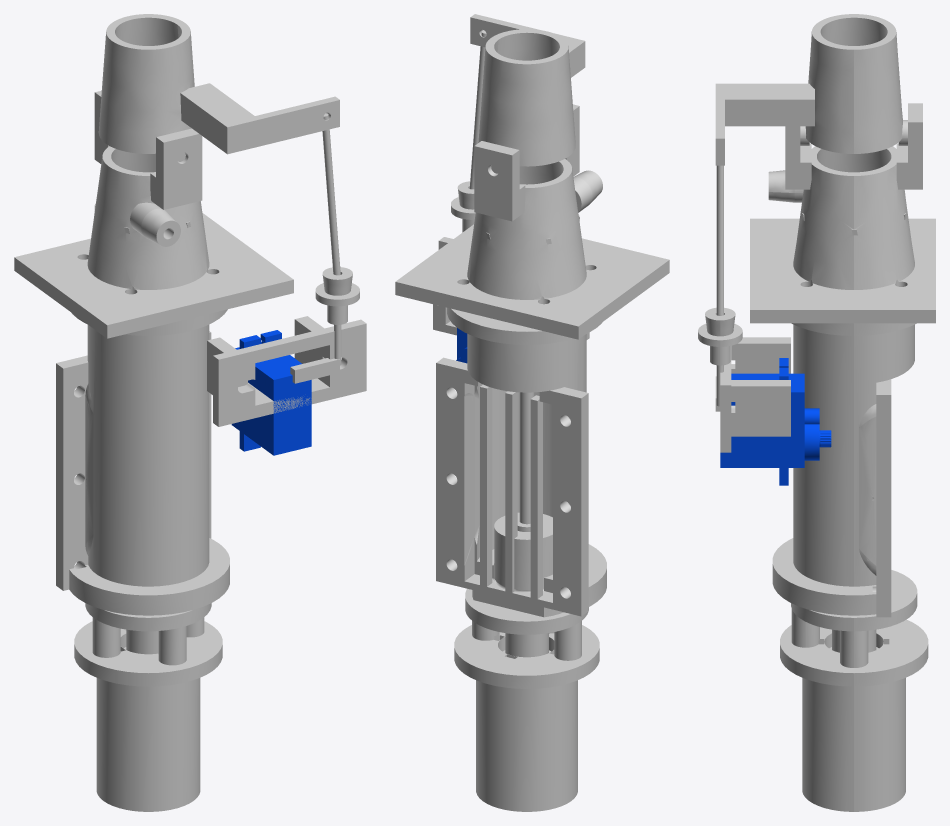
Rendered from .jet_assembly.step.glb.
3 views of the same model, side by side, from view 1: azimuth 30°, elevation 25°; view 2: azimuth 150°, elevation 25°; view 3: azimuth 270°, elevation 25° (orthographic).
Parts seen in each view (by area): view 1: o1.1, o1.5, o1.6, o1.8, o1.7, o1.3, o1.16.1, o1.20, o1.19, o1.17, o1.9; view 2: o1.1, o1.5, o1.6, o1.8, o1.3, o1.2, o1.10, o1.9, o1.20, o1.19, o1.7; view 3: o1.5, o1.1, o1.6, o1.8, o1.3, o1.7, o1.16.1, o1.20, o1.19.
Part boxes in pixels (x1,y1,x2,y2): o1.1: [56, 309, 229, 615]; o1.5: [14, 90, 293, 338]; o1.6: [98, 14, 339, 154]; o1.8: [96, 647, 200, 811]; o1.7: [207, 316, 366, 426]; o1.3: [74, 603, 222, 686]; o1.16.1: [231, 330, 311, 455]; o1.20: [315, 267, 359, 324]; o1.19: [322, 113, 340, 275]; o1.17: [290, 358, 339, 383]; o1.9: [126, 629, 158, 654]; o1.1: [436, 307, 606, 616]; o1.5: [395, 104, 669, 339]; o1.6: [470, 14, 585, 166]; o1.8: [476, 650, 577, 811]; o1.3: [454, 588, 599, 688]; o1.2: [472, 512, 563, 617]; o1.10: [519, 392, 534, 524]; o1.9: [505, 633, 548, 657]; o1.20: [451, 181, 475, 232]; o1.19: [469, 30, 486, 189]; o1.7: [433, 237, 589, 339]; o1.5: [750, 103, 935, 323]; o1.1: [772, 323, 916, 617]; o1.6: [715, 14, 907, 165]; o1.8: [802, 647, 905, 811]; o1.3: [780, 570, 928, 686]; o1.7: [720, 337, 790, 452]; o1.16.1: [720, 358, 831, 485]; o1.20: [698, 307, 742, 365]; o1.19: [716, 165, 723, 315].
Bounding box in the file's own units: 0.076 × 0.225 × 0.064.
